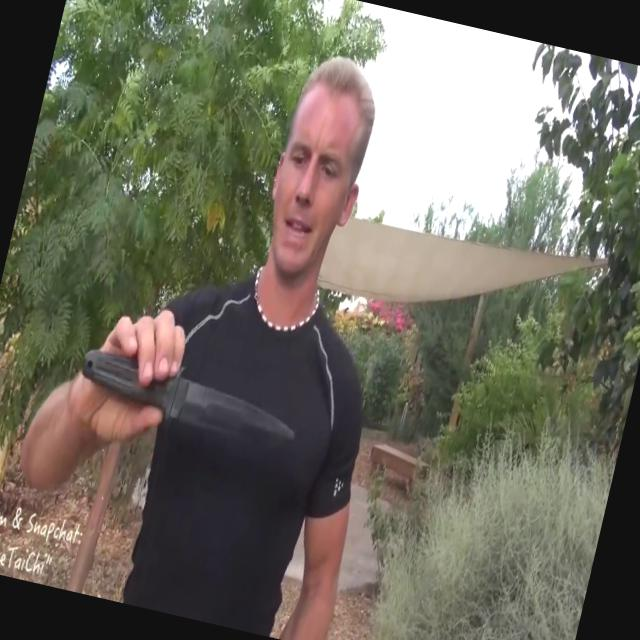knife: (61, 337, 331, 470)
